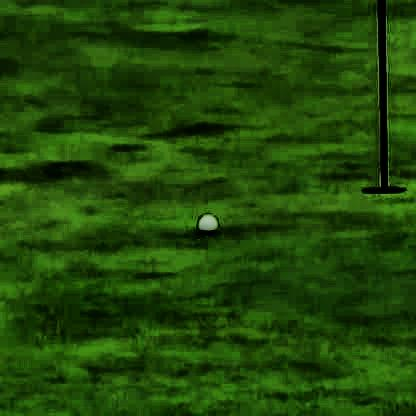golfball: (195, 212, 219, 234)
